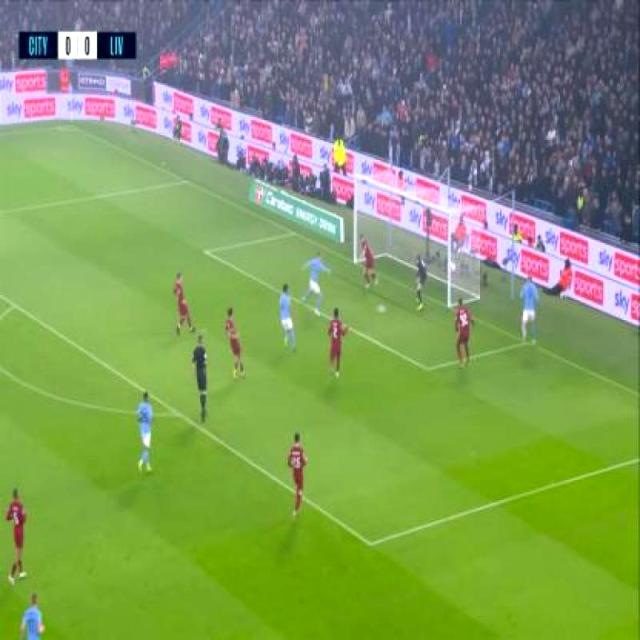bigarea_bottom_inner: (364, 534, 378, 556)
bigarea_top_outter: (180, 175, 192, 188)
bottom_arc_area_intersection: (172, 405, 186, 423)
corner: (62, 123, 78, 132)
smallarea_bottom_inner: (421, 360, 434, 378)
smallarea_top_inner: (200, 243, 214, 262)
smallarea_top_outter: (286, 224, 300, 242)
top_arc_area_intersection: (8, 296, 22, 314)
